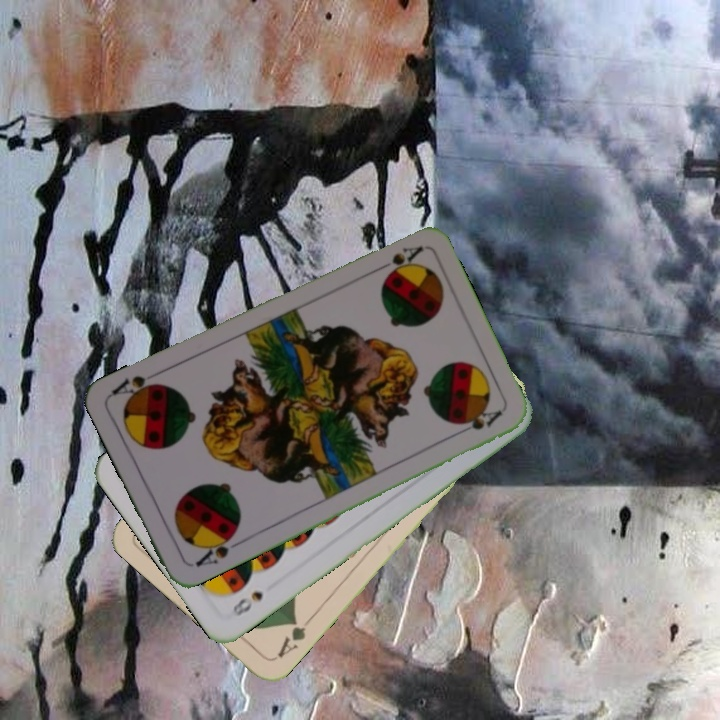GA: (273, 612, 315, 661)
S8: (228, 587, 266, 619)
SA: (191, 528, 244, 570), (370, 242, 426, 279)
